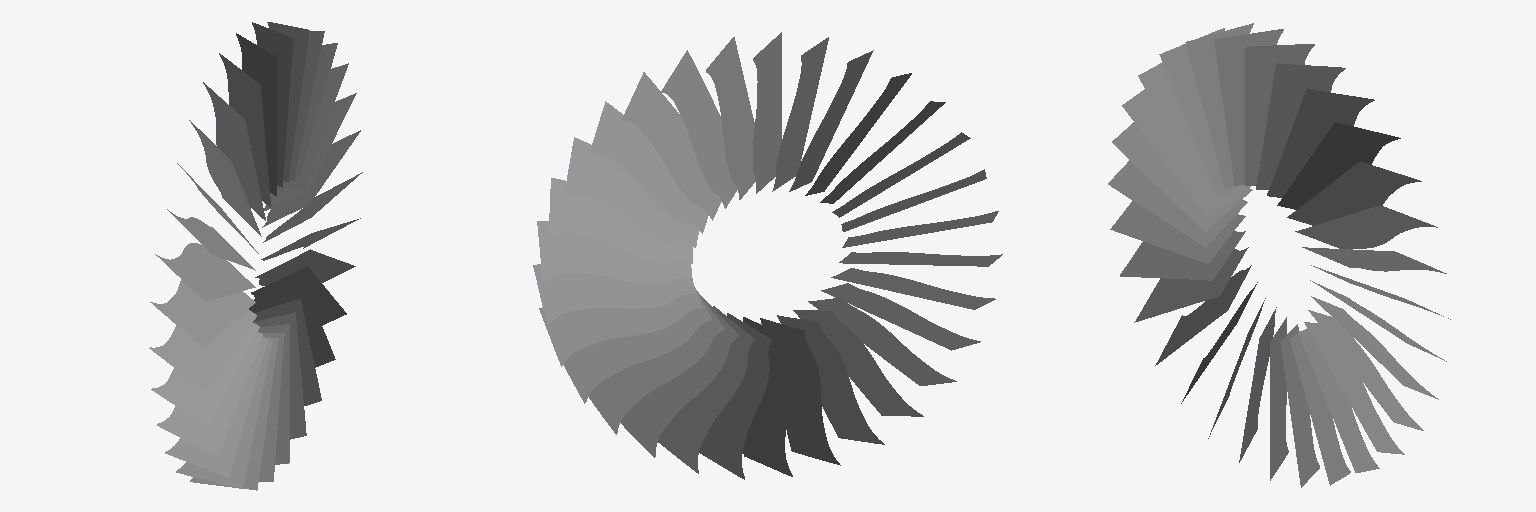
File: front_wings_3.obj
3 renders of one model, left to right at view 1: azimuth 30°, elevation 25°; view 2: azimuth 150°, elevation 25°; view 3: azimuth 270°, elevation 25°, orthographic.
Visible parts, largest first — view 1: Obj_000086, Obj_000084, Obj_000088, Obj_000090, Obj_000082, Obj_000072, Obj_000074, Obj_000131, Obj_000092, Obj_000128, Obj_000094, Obj_000126 (+16 smaller); view 2: Obj_000124, Obj_000122, Obj_000120, Obj_000126, Obj_000118, Obj_000116, Obj_000128, Obj_000114, Obj_000100, Obj_000098, Obj_000102, Obj_000104 (+28 smaller); view 3: Obj_000126, Obj_000128, Obj_000124, Obj_000131, Obj_000072, Obj_000122, Obj_000074, Obj_000076, Obj_000080, Obj_000082, Obj_000078, Obj_000084 (+16 smaller).
Boxes of the visible parts, x1=… form: Obj_000086: x1=160, y1=309, x2=256, y2=390; Obj_000084: x1=161, y1=286, x2=255, y2=347; Obj_000088: x1=161, y1=323, x2=259, y2=427; Obj_000090: x1=168, y1=332, x2=262, y2=456; Obj_000082: x1=165, y1=250, x2=255, y2=301; Obj_000072: x1=226, y1=58, x2=270, y2=207; Obj_000074: x1=210, y1=88, x2=265, y2=220; Obj_000131: x1=243, y1=37, x2=276, y2=195; Obj_000092: x1=176, y1=338, x2=267, y2=477; Obj_000128: x1=260, y1=25, x2=292, y2=187; Obj_000094: x1=188, y1=339, x2=272, y2=488; Obj_000126: x1=275, y1=23, x2=309, y2=181; Obj_000124: x1=626, y1=72, x2=721, y2=212; Obj_000122: x1=592, y1=101, x2=708, y2=225; Obj_000120: x1=566, y1=137, x2=698, y2=239; Obj_000126: x1=666, y1=50, x2=737, y2=202; Obj_000118: x1=549, y1=178, x2=692, y2=254; Obj_000116: x1=537, y1=221, x2=691, y2=275; Obj_000128: x1=710, y1=37, x2=755, y2=194; Obj_000114: x1=533, y1=264, x2=693, y2=314; Obj_000100: x1=743, y1=317, x2=785, y2=473; Obj_000098: x1=760, y1=318, x2=831, y2=462; Obj_000102: x1=699, y1=313, x2=764, y2=474; Obj_000104: x1=658, y1=306, x2=747, y2=466; Obj_000126: x1=1267, y1=89, x2=1361, y2=197; Obj_000128: x1=1256, y1=63, x2=1333, y2=189; Obj_000124: x1=1277, y1=122, x2=1388, y2=209; Obj_000131: x1=1245, y1=44, x2=1302, y2=185; Obj_000072: x1=1214, y1=30, x2=1271, y2=185; Obj_000122: x1=1287, y1=161, x2=1410, y2=225; Obj_000074: x1=1185, y1=26, x2=1241, y2=189; Obj_000076: x1=1159, y1=32, x2=1242, y2=195; Obj_000080: x1=1122, y1=89, x2=1249, y2=217; Obj_000082: x1=1112, y1=122, x2=1243, y2=232; Obj_000078: x1=1138, y1=62, x2=1245, y2=205; Obj_000084: x1=1108, y1=160, x2=1240, y2=247.
Bounding box in the file's own units: 10.58 × 12.46 × 9.23.